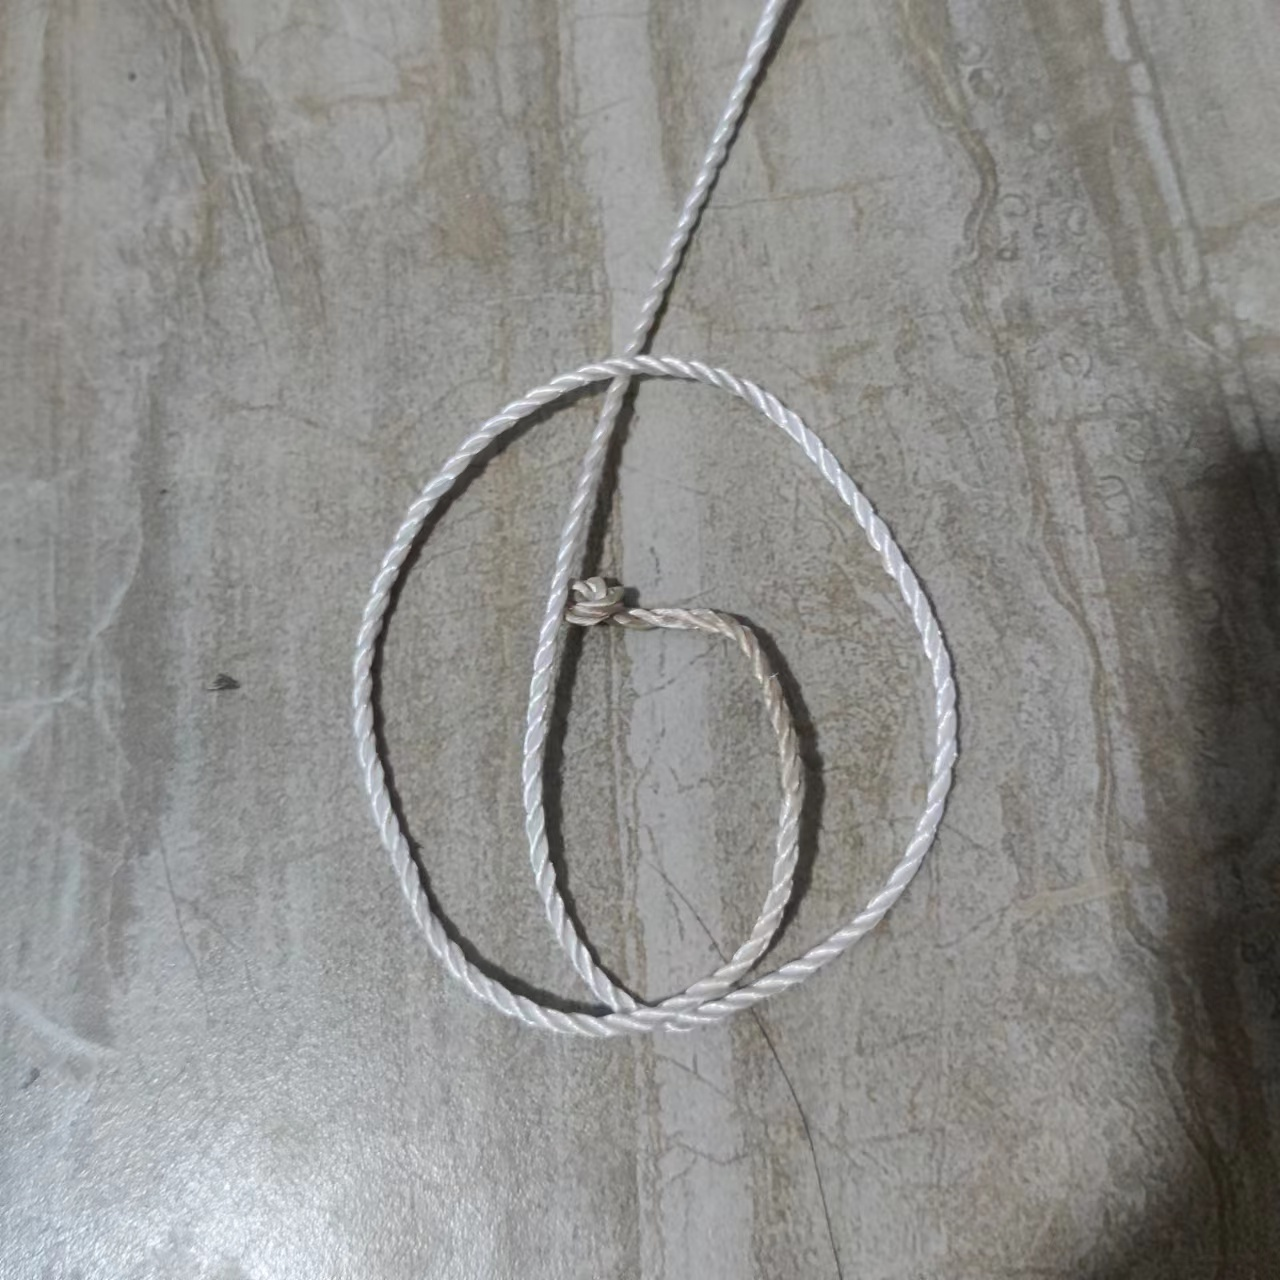9/可回收垃圾/绳子: (352, 1, 964, 1039)
